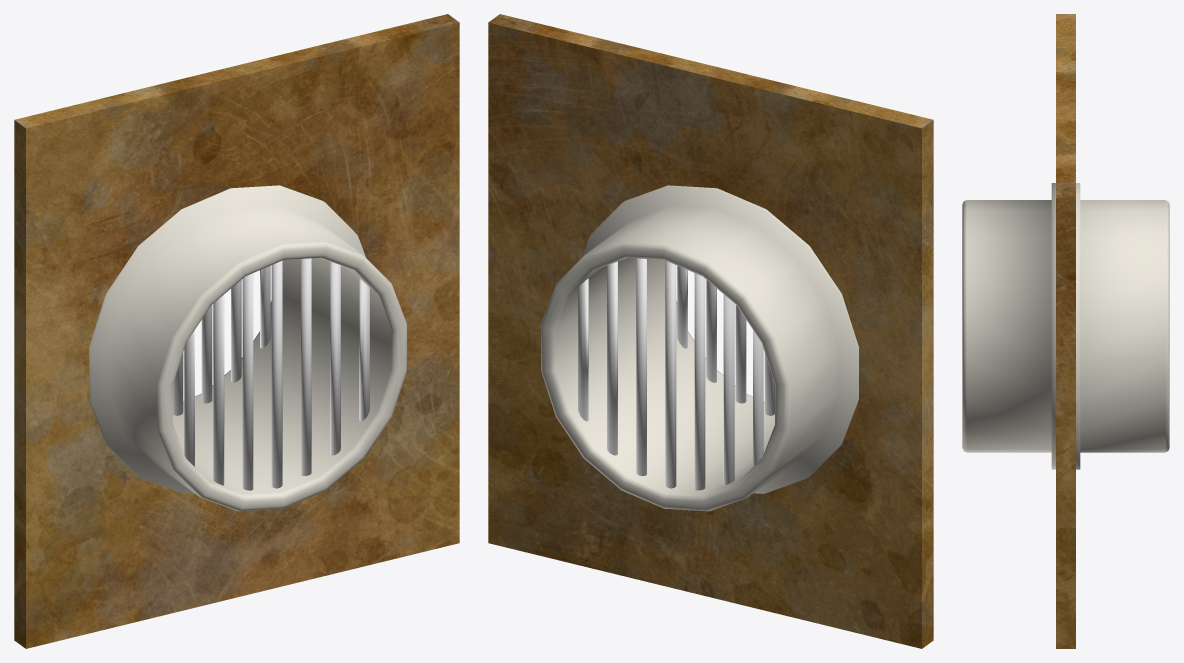
Rendered from WallWindow2.fbx.
3 renders of one model, left to right at view 1: azimuth 30°, elevation 25°; view 2: azimuth 150°, elevation 25°; view 3: azimuth 270°, elevation 25°, orthographic. The views are drawn at different scales.
Visible parts, largest first — view 1: Wall.001; view 2: Wall.001; view 3: Wall.001.
Boxes of the visible parts, <box> form: Wall.001: <box>14,14,459,648</box>; Wall.001: <box>488,14,933,648</box>; Wall.001: <box>962,14,1169,648</box>.
Size of the model in its own units: 300 by 344 by 143.
